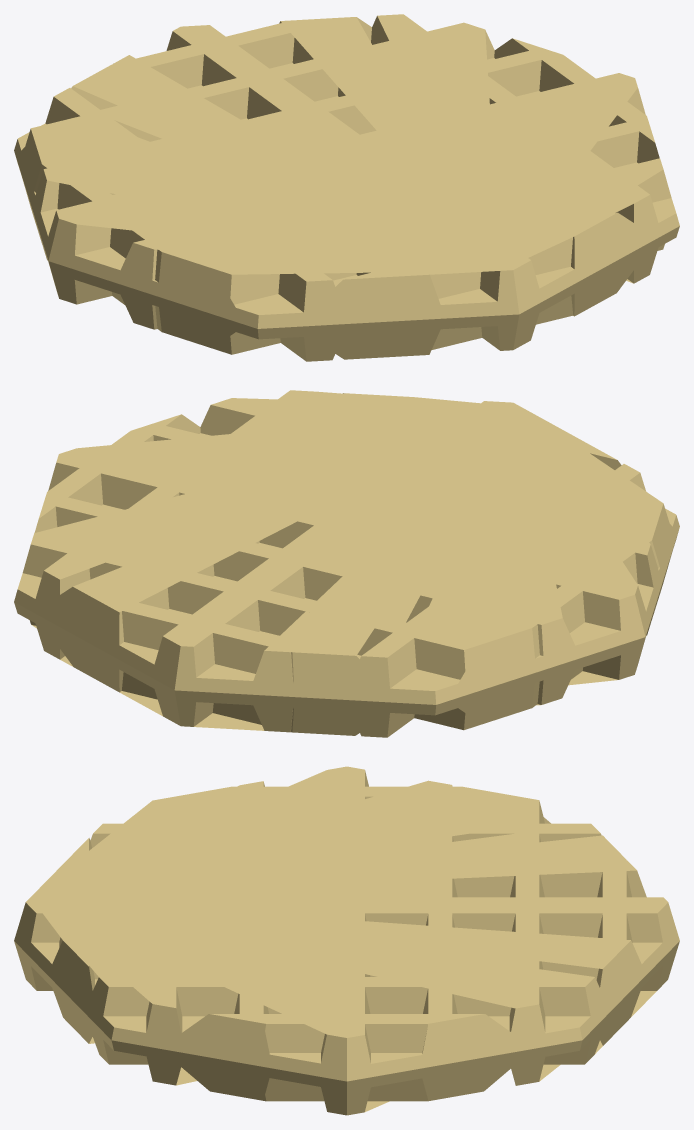
File: waffle 01.fbx
3 renders of one model, top to bottom at view 1: azimuth 30°, elevation 25°; view 2: azimuth 150°, elevation 25°; view 3: azimuth 270°, elevation 25°, orthographic. The views are drawn at different scales.
Parts seen in each view (by area): view 1: waffle 01; view 2: waffle 01; view 3: waffle 01.
Boxes of the visible parts, x1,y1,x2,y2 form: waffle 01: (14, 14, 679, 361); waffle 01: (14, 390, 679, 737); waffle 01: (14, 766, 679, 1115).
Size of the model in its own units: 15.59 by 2 by 15.59.
